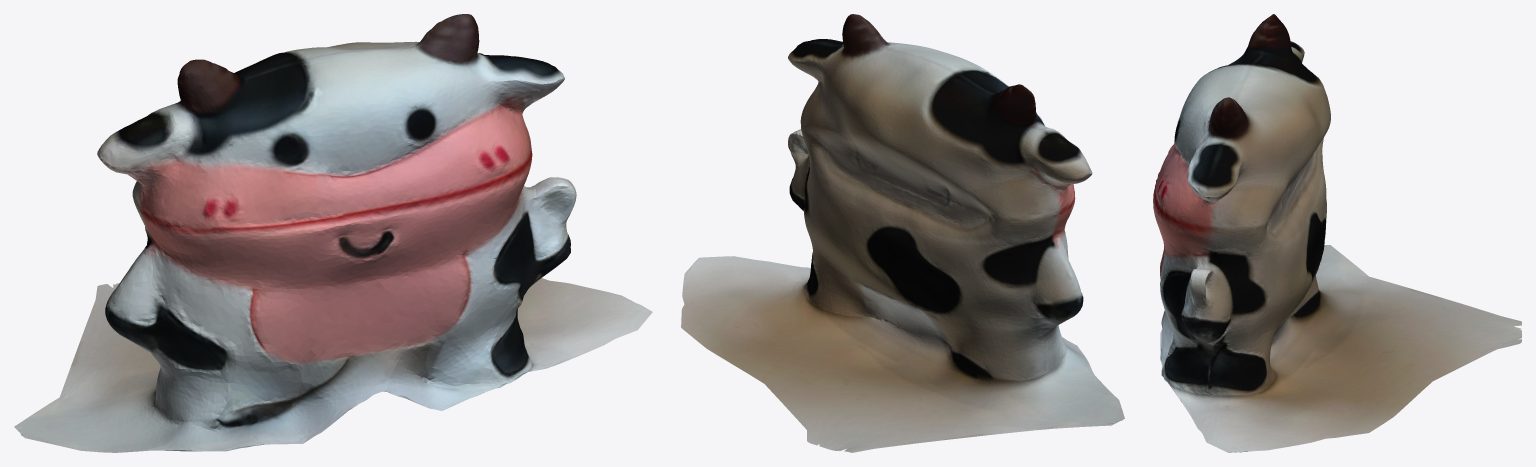
3 views of the same model, side by side, from view 1: azimuth 30°, elevation 25°; view 2: azimuth 150°, elevation 25°; view 3: azimuth 270°, elevation 25° (orthographic). The views are drawn at different scales.
Size of the model in its own units: 0.0968 by 0.0597 by 0.0668.
1 material, 1 textured.
